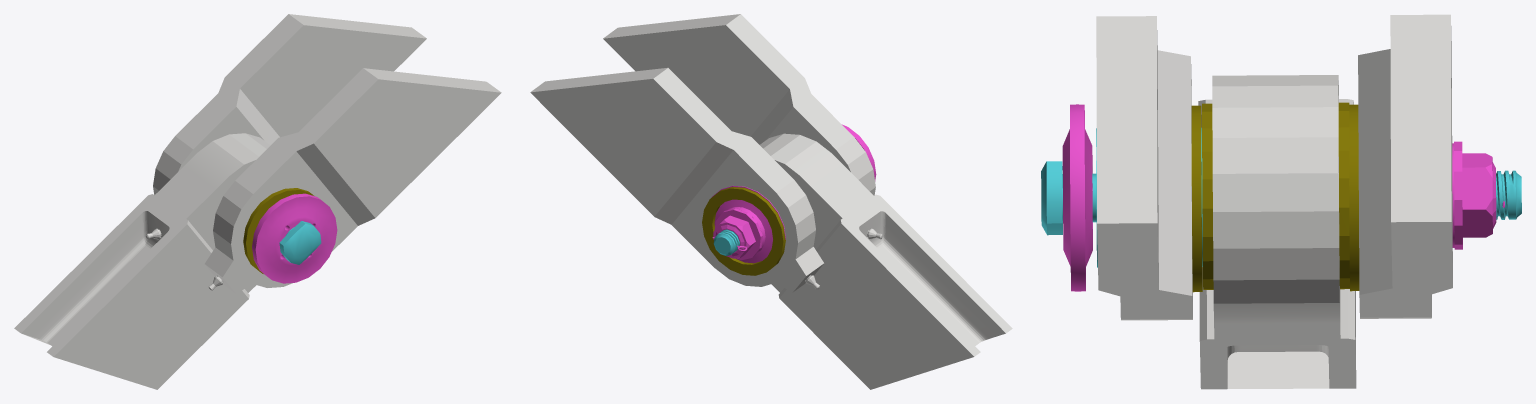
3 views of the same model, side by side, from view 1: azimuth 30°, elevation 25°; view 2: azimuth 150°, elevation 25°; view 3: azimuth 270°, elevation 25° (orthographic). The views are drawn at different scales.
Parts seen in each view (by area): view 1: [3] UPPER SIDE STRUT, [8] LOWER SIDE STRUT, [9] END CAP A, [11] BOLT; view 2: [3] UPPER SIDE STRUT, [8] LOWER SIDE STRUT, [14] NUT, [9] END CAP B, [11] BOLT; view 3: [3] UPPER SIDE STRUT, [8] LOWER SIDE STRUT, [9] END CAP A, [14] NUT, [11] BOLT.
Boxes of the visible parts, x1,y1,x2,y2 form: [3] UPPER SIDE STRUT: [153, 14, 501, 293]; [8] LOWER SIDE STRUT: [14, 133, 270, 389]; [9] END CAP A: [252, 193, 337, 283]; [11] BOLT: [279, 221, 321, 264]; [3] UPPER SIDE STRUT: [530, 14, 875, 292]; [8] LOWER SIDE STRUT: [760, 133, 1012, 389]; [14] NUT: [713, 208, 762, 260]; [9] END CAP B: [711, 185, 785, 263]; [11] BOLT: [713, 229, 739, 255]; [3] UPPER SIDE STRUT: [1096, 14, 1452, 320]; [8] LOWER SIDE STRUT: [1198, 75, 1356, 389]; [9] END CAP A: [1062, 104, 1092, 291]; [14] NUT: [1454, 141, 1496, 249]; [11] BOLT: [1041, 161, 1521, 235].
Size of the model in its own units: 33.02 by 21.09 by 16.32.
